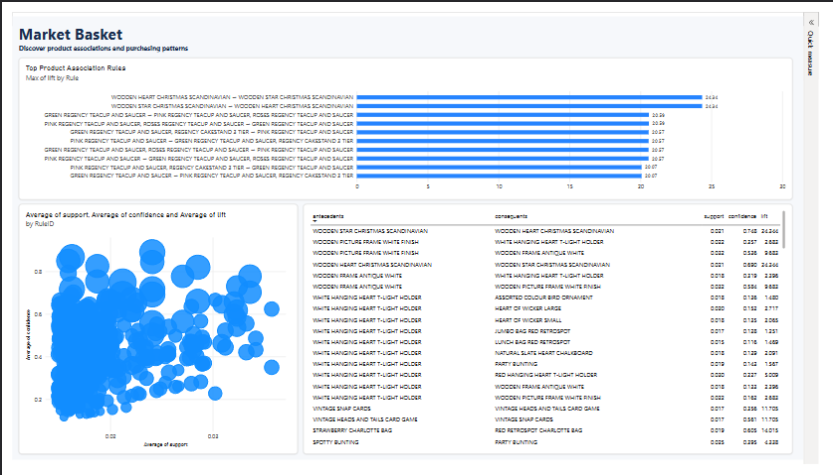

The dashboard page shown, as its layout file describes it:
{"tool":"powerbi","page":{"name":"Market Basket","canvas":[1920,1080],"ordinal":2},"visuals":[{"type":"textbox","box":[15.7,17.1,417.1,70],"z":0},{"type":"clusteredBarChart","title":"Top Product Association Rules","fields":{"Category":["rules.Rule"],"Y":["Max(rules.lift)"]},"box":[15.7,101.4,1877.1,345.7],"z":1000},{"type":"tableEx","fields":{"Values":["rules.antecedents","rules.consequents","rules.support","rules.confidence","rules.lift"]},"box":[705.7,457.1,1187.1,608.6],"z":2000},{"type":"scatterChart","fields":{"Category":["rules.RuleID"],"Size":["Avg(rules.lift)"],"X":["Avg(rules.support)"],"Y":["Avg(rules.confidence)"]},"box":[15.7,457.1,677.1,608.6],"z":3000}]}

Visuals, with their boxes on the page's 1920x1080 design canvas (x1, y1, x2, y2). These are canvas units, not pixel positions in the 833x475 screenshot, which may show the page scaled, cropped or inside an application window:
textbox: x1=16 y1=17 x2=433 y2=87
"Top Product Association Rules" clusteredBarChart: x1=16 y1=101 x2=1893 y2=447
tableEx - rules.antecedents x rules.consequents: x1=706 y1=457 x2=1893 y2=1066
scatterChart - rules.RuleID x Avg(rules.lift): x1=16 y1=457 x2=693 y2=1066
